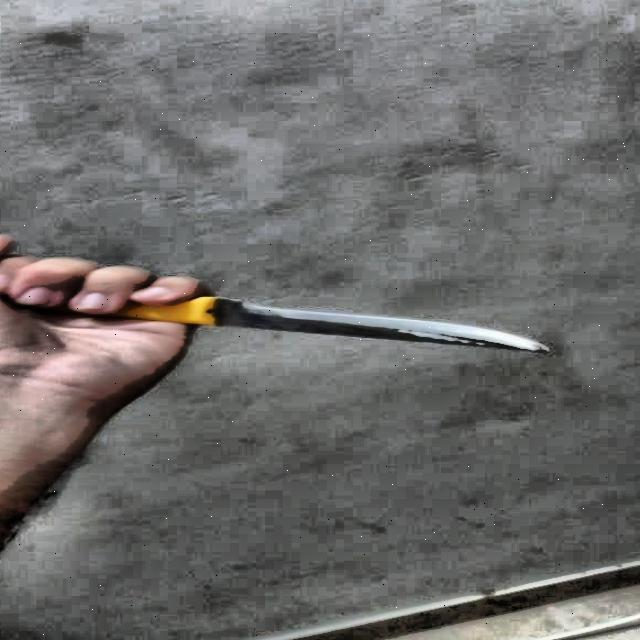knife: (120, 294, 548, 352)
